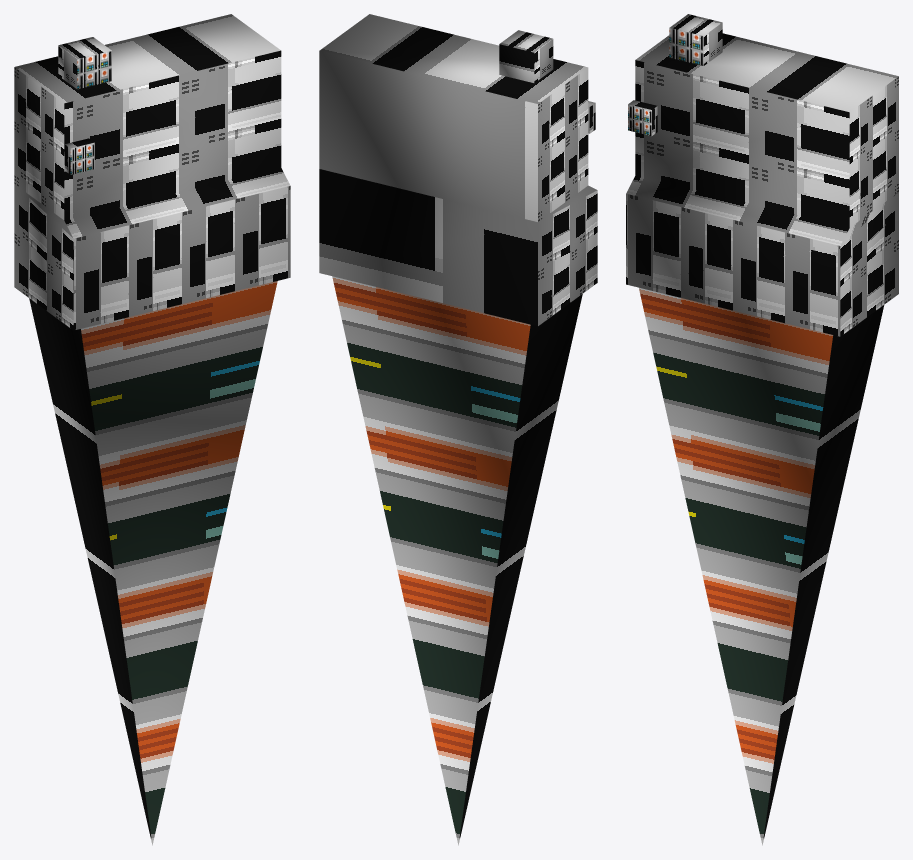
3 renders of one model, left to right at view 1: azimuth 30°, elevation 25°; view 2: azimuth 150°, elevation 25°; view 3: azimuth 330°, elevation 25°, orthographic. The views are drawn at different scales.
Visible parts, largest first — view 1: 3791kg_sh1_14; view 2: 3791kg_sh1_14; view 3: 3791kg_sh1_14.
Part boxes in pixels (<box>): 3791kg_sh1_14: <box>14,14,290,845</box>; 3791kg_sh1_14: <box>319,14,597,845</box>; 3791kg_sh1_14: <box>626,14,898,845</box>.
Size of the model in its own units: 1.9 by 6.81 by 0.897.
3 materials, 3 textured.
